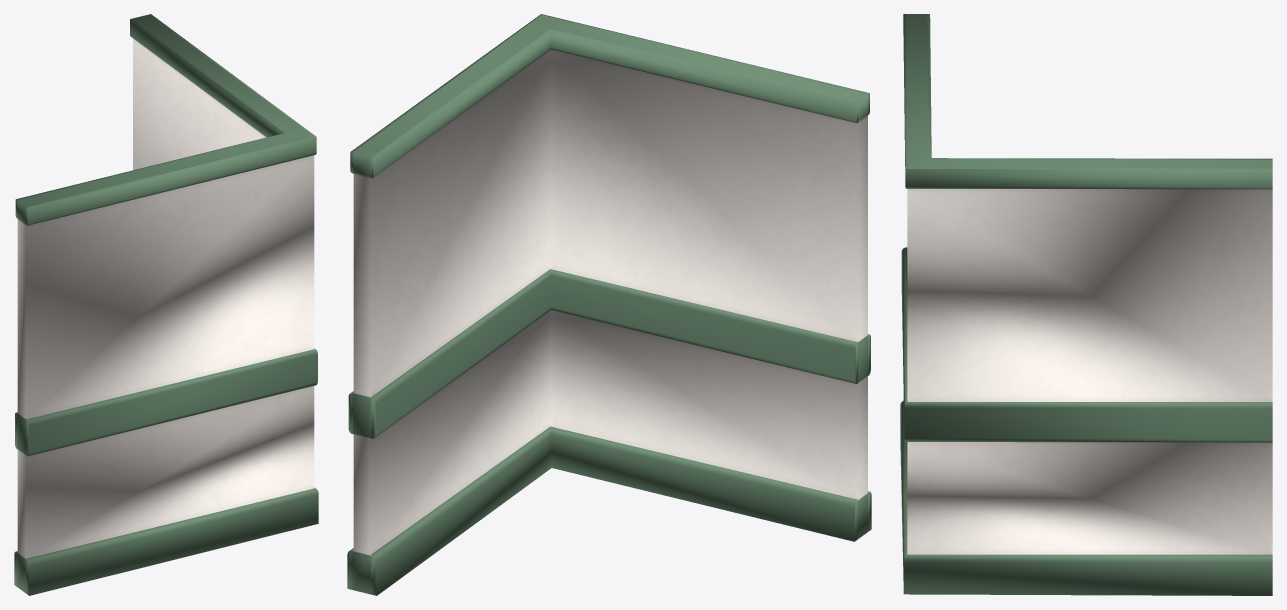
File: Tile_Corner.glb
3 renders of one model, left to right at view 1: azimuth 30°, elevation 25°; view 2: azimuth 150°, elevation 25°; view 3: azimuth 270°, elevation 25°, orthographic. The views are drawn at different scales.
Visible parts, largest first — view 1: Tile_Corner; view 2: Tile_Corner; view 3: Tile_Corner.
Part boxes in pixels (left/top/right/bottom): Tile_Corner: left=14, top=14, right=318, bottom=595; Tile_Corner: left=347, top=14, right=871, bottom=595; Tile_Corner: left=900, top=14, right=1272, bottom=595.
Size of the model in its own units: 1.99 by 2.5 by 1.99.
Materials: 1 (1 with a texture image).
